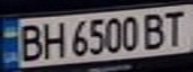0: (121, 12, 142, 52), (103, 15, 124, 54)
5: (87, 16, 109, 55)
6: (66, 17, 90, 57)
B: (139, 10, 172, 51), (12, 21, 45, 62)
H: (36, 19, 66, 60)
T: (160, 7, 190, 47)
